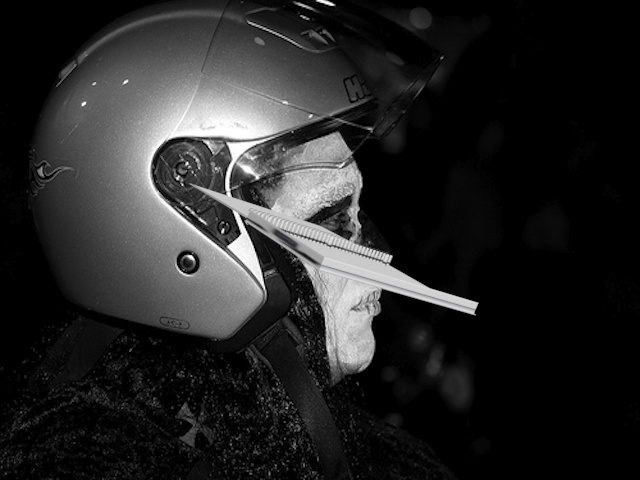paper_notebook: (185, 177, 480, 320)
